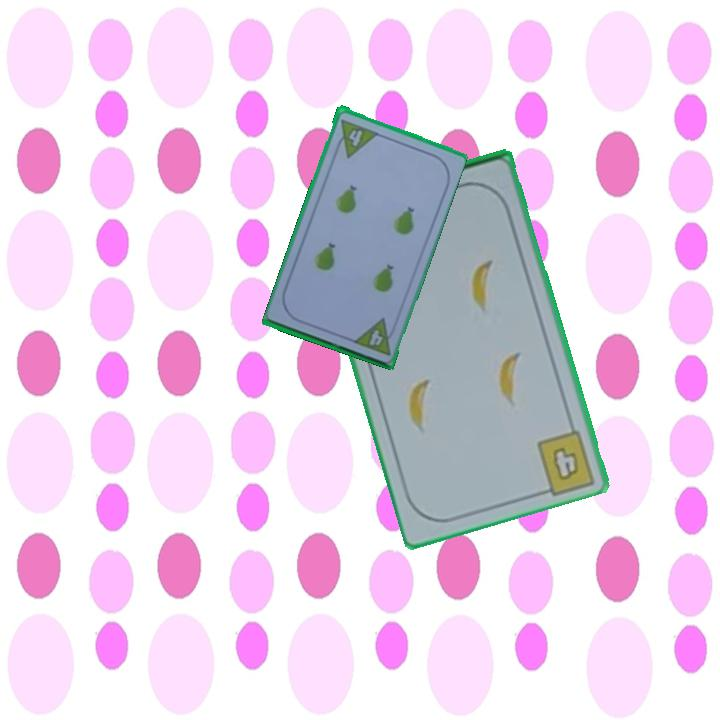4b: (549, 443, 582, 485)
4p: (331, 115, 380, 160), (350, 314, 400, 358)
